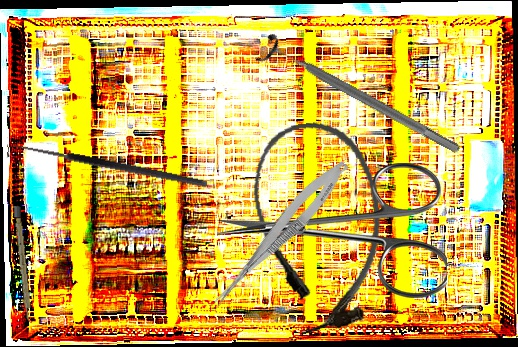Cannula: (243, 114, 397, 339)
Fixation Ring: (253, 29, 468, 166)
Hook Surgical: (6, 140, 208, 198)
Iris Scissors: (217, 163, 447, 298)
Micro Scissor: (204, 153, 354, 320)
Scalpel Handle: (13, 205, 33, 324)
